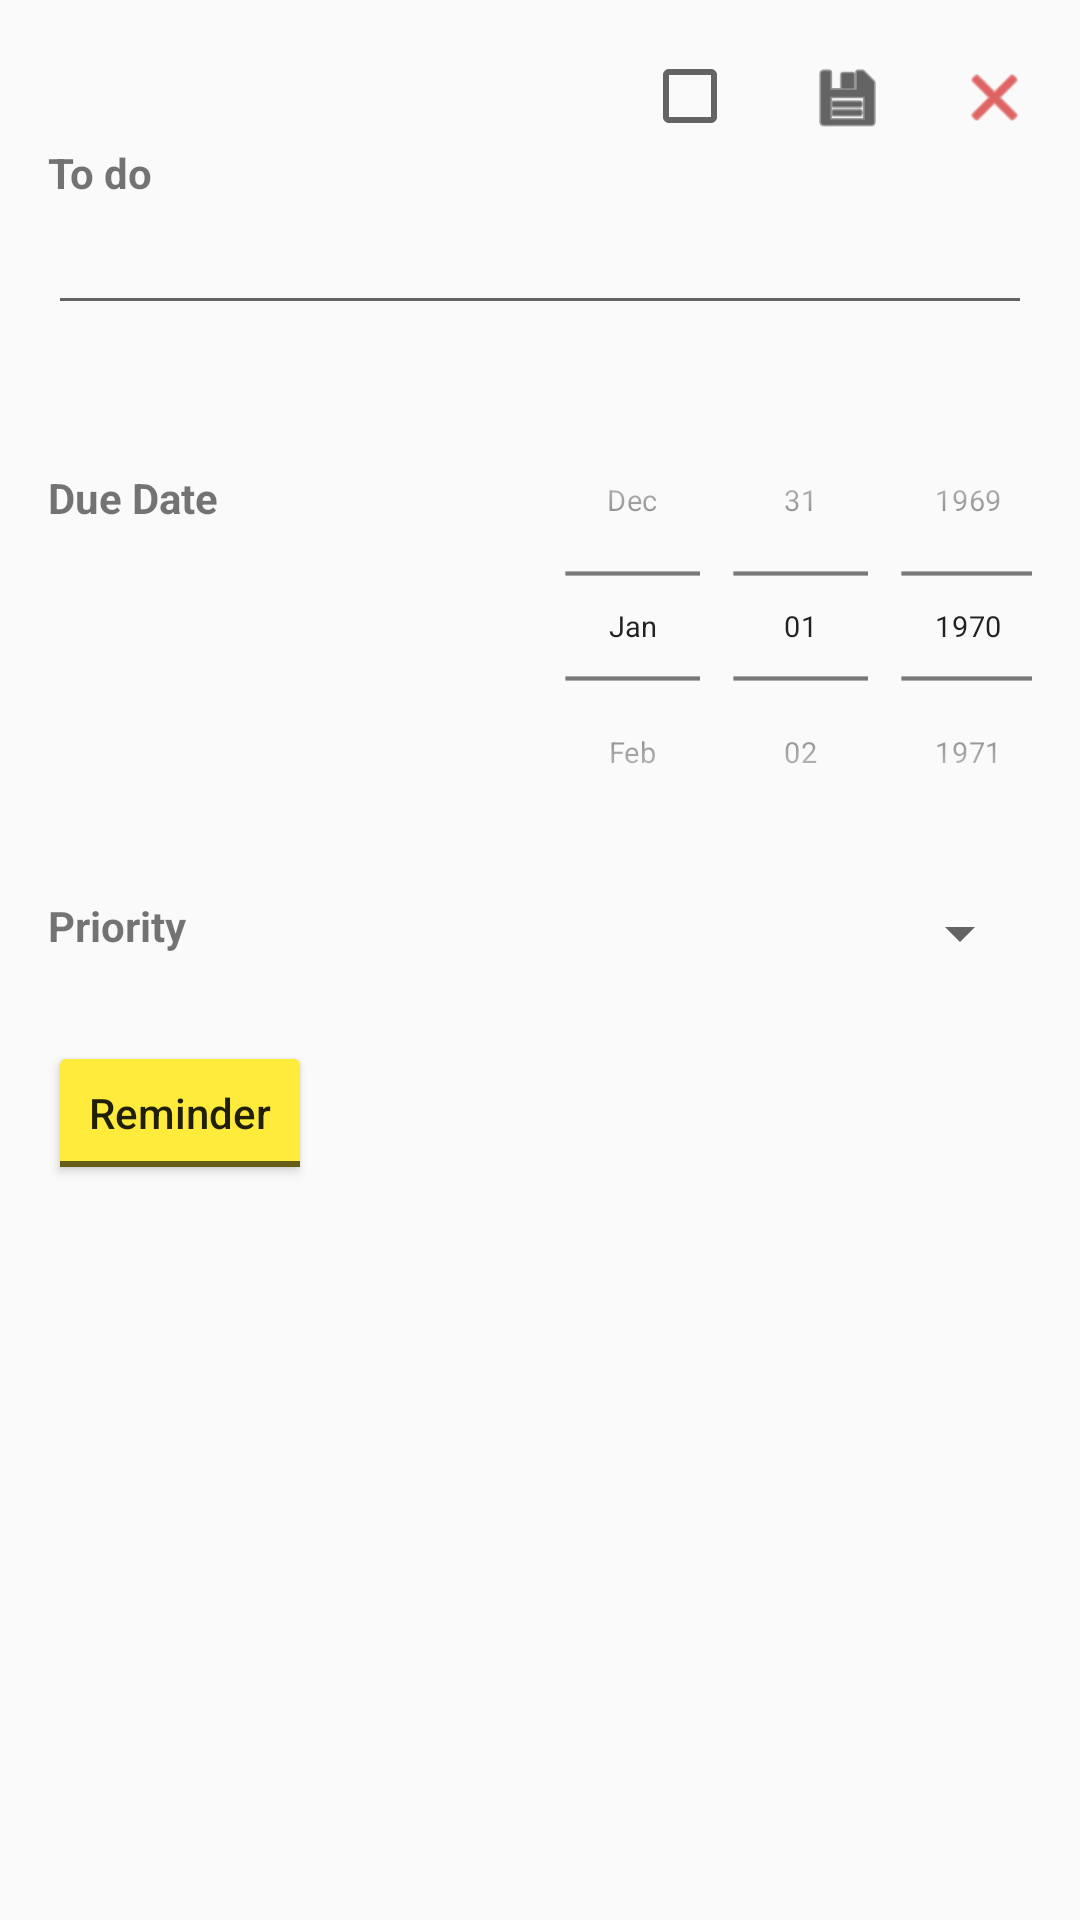

Icon bounding boxes for this 1080*1920 phone screenshot, format (x1, y1, x2, y2):
close clear cancel: (971, 74, 1018, 121)
save: (819, 69, 876, 127)
